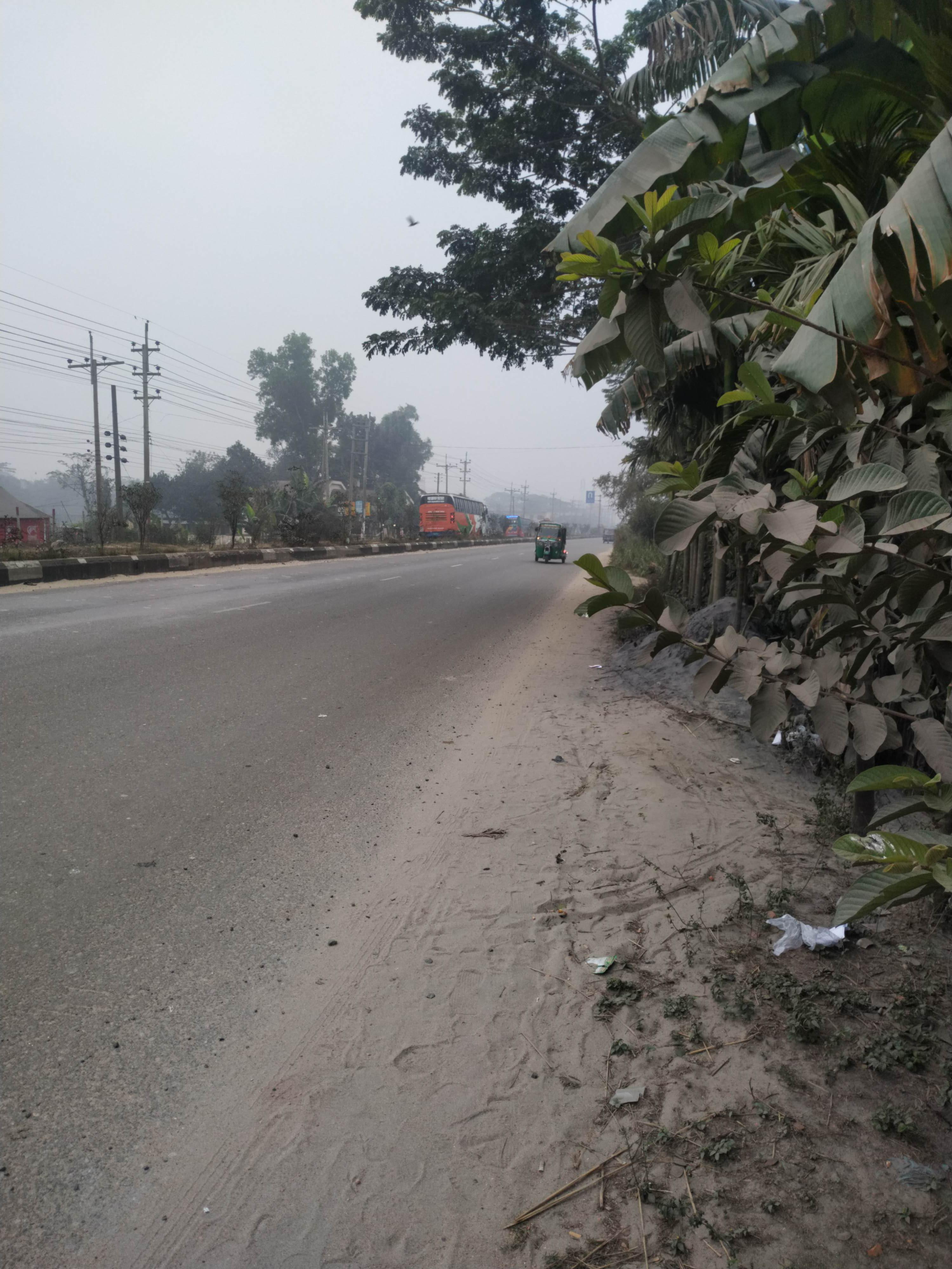Bus: (399, 481, 501, 555)
